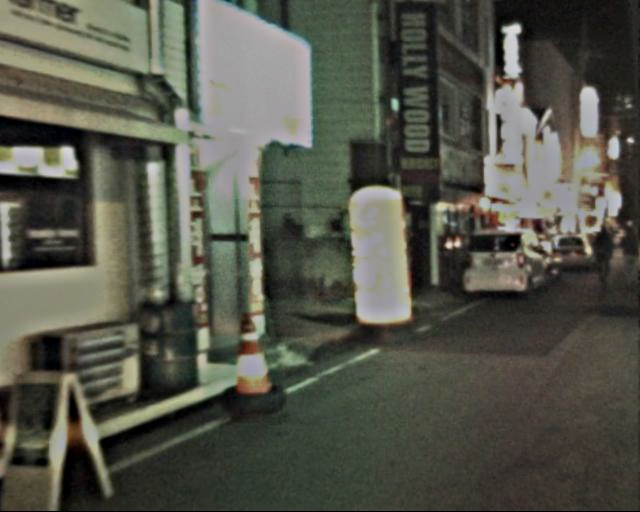person: (592, 227, 624, 288), (622, 226, 640, 293)
